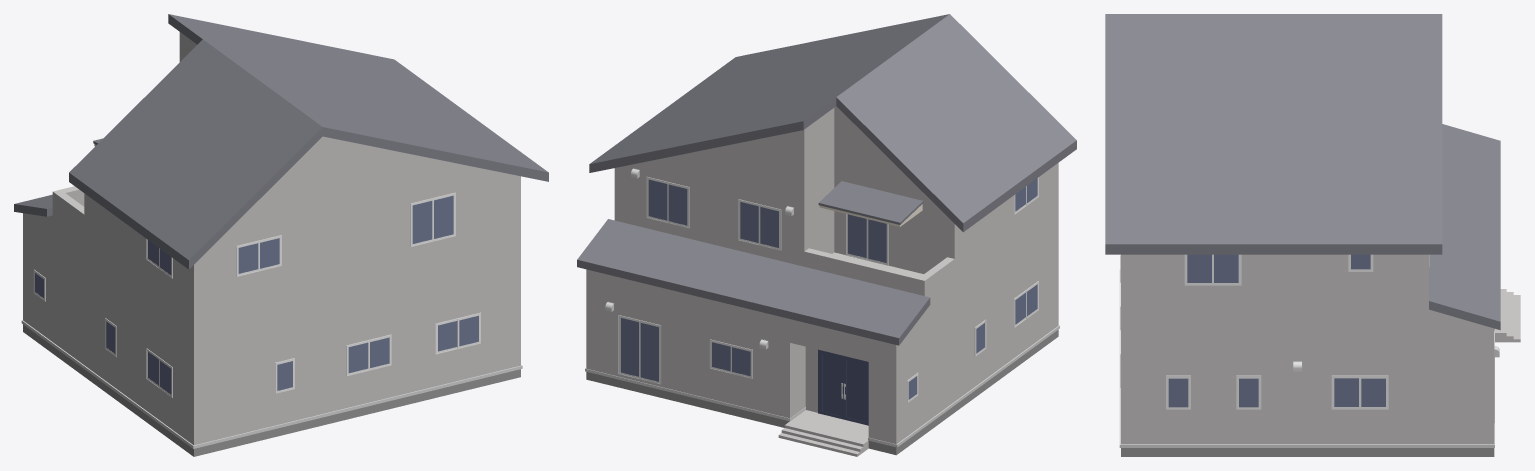
Rendered from MobHouse68.fbx.
The picture shows the model from 3 angles, left to right: view 1: azimuth 30°, elevation 25°; view 2: azimuth 150°, elevation 25°; view 3: azimuth 270°, elevation 25°; orthographic projection. The views are drawn at different scales.
Parts seen in each view (by area): view 1: Flat_half_house02.027; view 2: Flat_half_house02.027; view 3: Flat_half_house02.027.
Part boxes in pixels (x1,y1,x2,y2): Flat_half_house02.027: [14, 14, 548, 456]; Flat_half_house02.027: [577, 14, 1076, 456]; Flat_half_house02.027: [1105, 14, 1520, 456].
Size of the model in its own units: 10.32 by 8.37 by 9.45.
